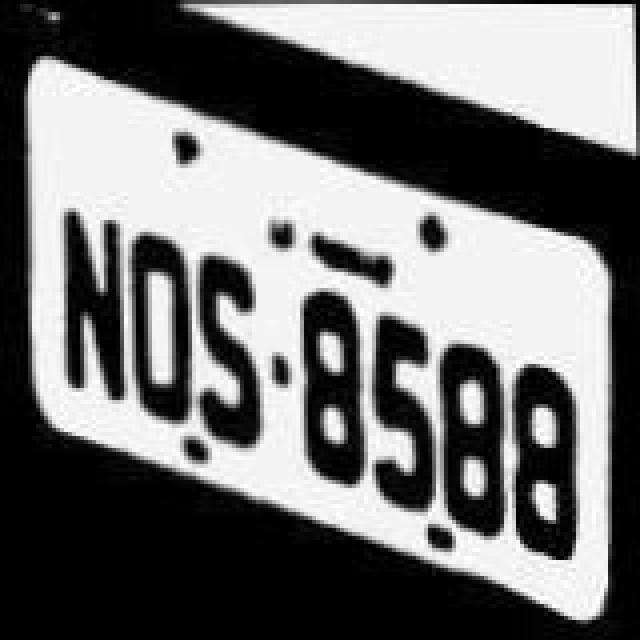5: (362, 298, 438, 518)
8: (506, 326, 582, 570), (290, 288, 374, 500), (436, 296, 508, 536)
N: (50, 176, 130, 424)
O: (124, 224, 200, 428)
S: (192, 244, 268, 452)
